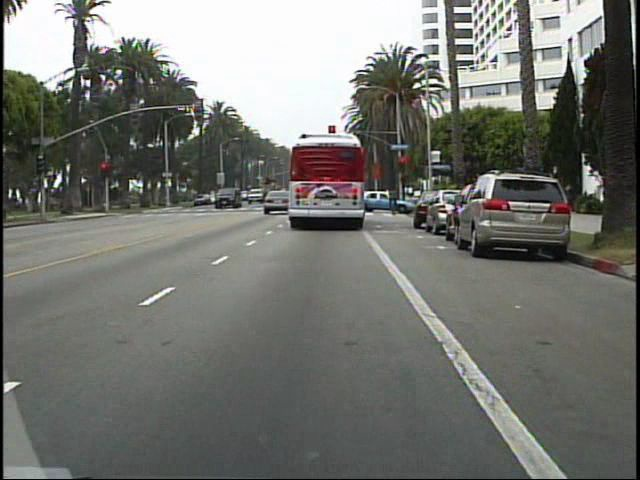person: (383, 185, 402, 217)
